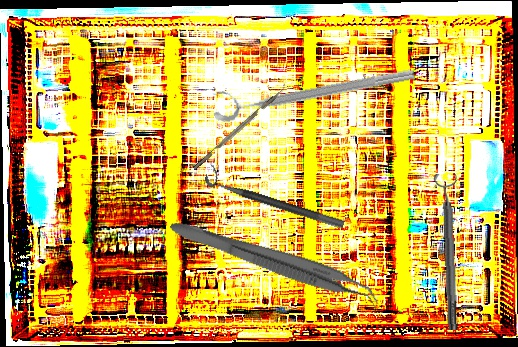Chopper: (188, 80, 290, 171)
Fixation Ring: (209, 51, 417, 125), (203, 163, 349, 230), (433, 173, 465, 331)
Tissue Forceps: (164, 217, 386, 310)
